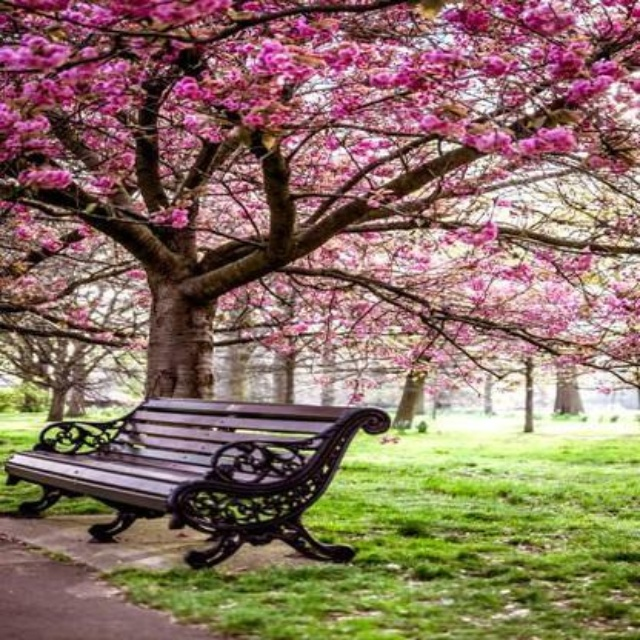obstacle: (9, 378, 408, 591)
